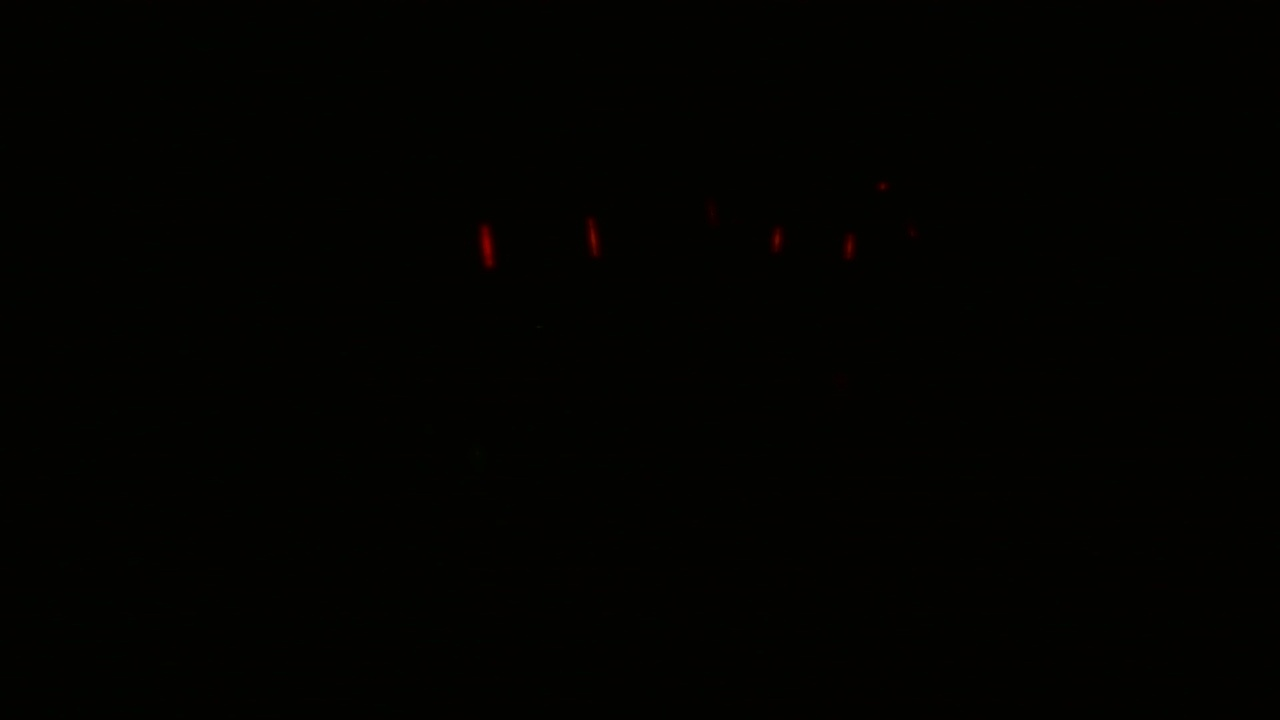pair1: (471, 207, 610, 275)
pair2: (759, 221, 865, 272)
